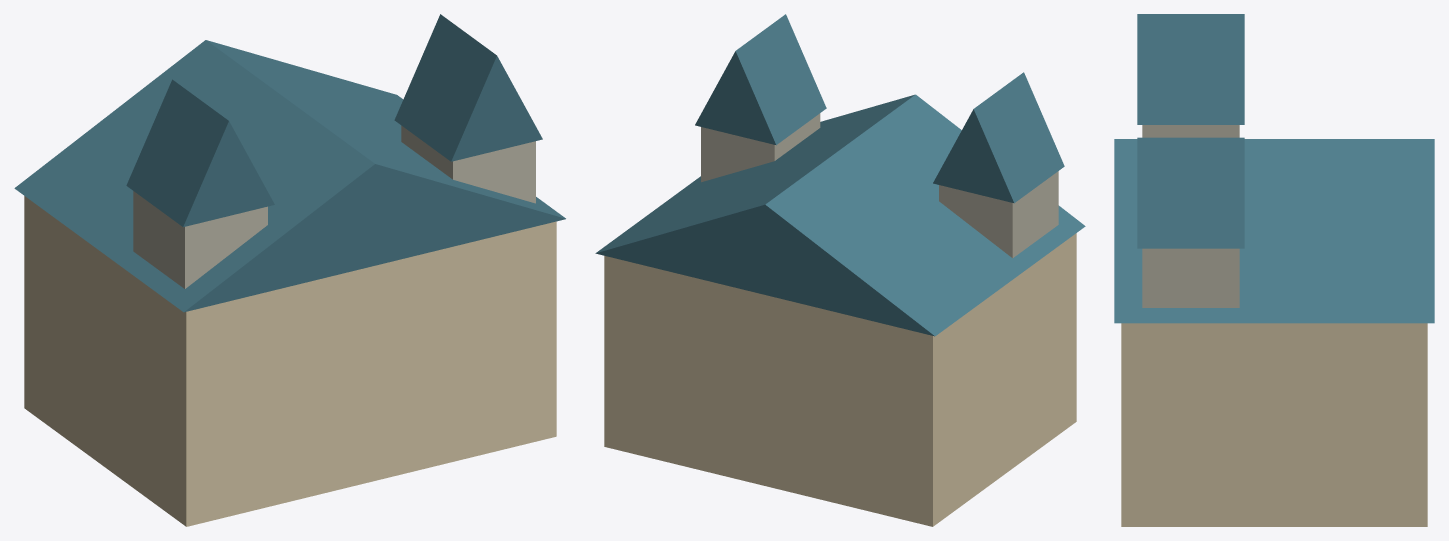
Rendered from block_guild.glb.
The picture shows the model from 3 angles, left to right: view 1: azimuth 30°, elevation 25°; view 2: azimuth 150°, elevation 25°; view 3: azimuth 270°, elevation 25°; orthographic projection. The views are drawn at different scales.
Parts seen in each view (by area): view 1: GuildHall, GuildRoof, TowerRoof, TowerRoof.001, FlankingTower, FlankingTower.001; view 2: GuildHall, GuildRoof, TowerRoof, TowerRoof.001, FlankingTower, FlankingTower.001; view 3: GuildHall, GuildRoof, TowerRoof.001, TowerRoof, FlankingTower.001, FlankingTower.
Part boxes in pixels (left/top/right/bottom): GuildHall: left=24, top=196, right=556, bottom=526; GuildRoof: left=14, top=40, right=565, bottom=312; TowerRoof: left=126, top=79, right=274, bottom=227; TowerRoof.001: left=394, top=14, right=542, bottom=161; FlankingTower: left=133, top=191, right=267, bottom=288; FlankingTower.001: left=401, top=125, right=535, bottom=203; GuildHall: left=604, top=233, right=1076, bottom=526; GuildRoof: left=595, top=94, right=1085, bottom=336; TowerRoof: left=933, top=72, right=1064, bottom=203; TowerRoof.001: left=695, top=14, right=826, bottom=145; FlankingTower: left=939, top=171, right=1058, bottom=258; FlankingTower.001: left=701, top=113, right=820, bottom=182; GuildHall: left=1121, top=323, right=1427, bottom=526; GuildRoof: left=1114, top=139, right=1434, bottom=323; TowerRoof.001: left=1137, top=137, right=1244, bottom=248; TowerRoof: left=1137, top=14, right=1244, bottom=124; FlankingTower.001: left=1142, top=248, right=1239, bottom=307; FlankingTower: left=1142, top=125, right=1239, bottom=137.
Size of the model in its own units: 30 by 29 by 23.
